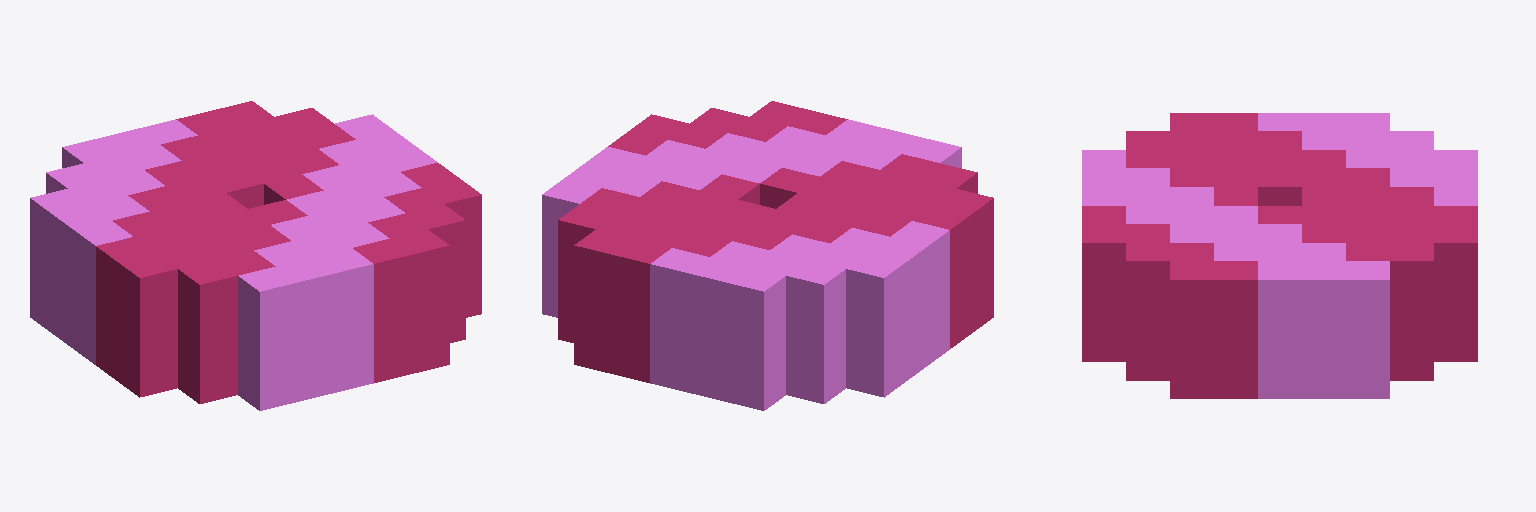
The picture shows the model from 3 angles: view 1: azimuth 30°, elevation 25°; view 2: azimuth 150°, elevation 25°; view 3: azimuth 270°, elevation 25°; orthographic projection.
Visible parts, largest first — view 1: object 1; view 2: object 1; view 3: object 1.
Boxes of the visible parts, box(x1,y1,x2,y2) form: object 1: box(30, 101, 481, 410); object 1: box(542, 101, 993, 410); object 1: box(1082, 113, 1477, 398).
Bounding box in the file's own units: 0.9 × 0.3 × 0.9.
Materials: 1 (1 with a texture image).